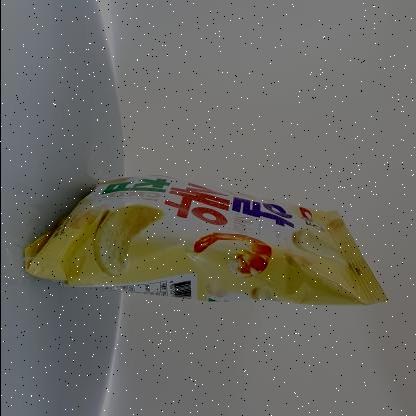Others: (14, 168, 394, 324)
